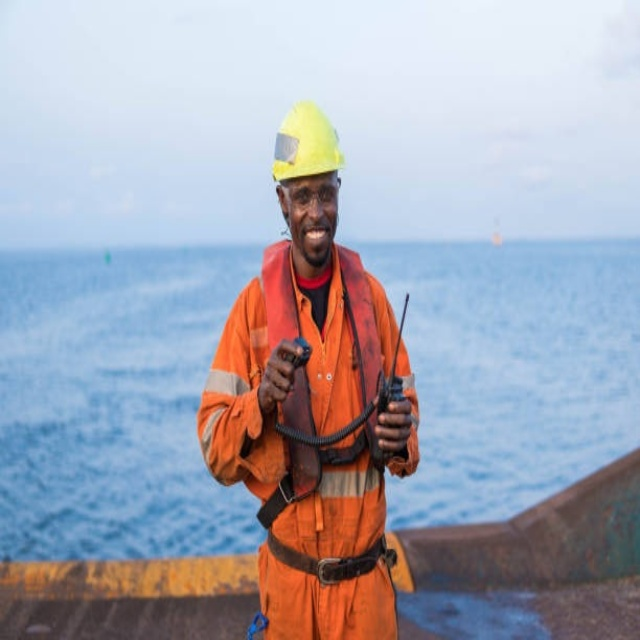Gafas: (278, 179, 340, 209)
Sin_guantes: (261, 338, 311, 412), (373, 387, 414, 465)
Sin_mascara: (301, 221, 332, 254)
